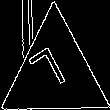L_SE: (31, 42, 77, 103)
